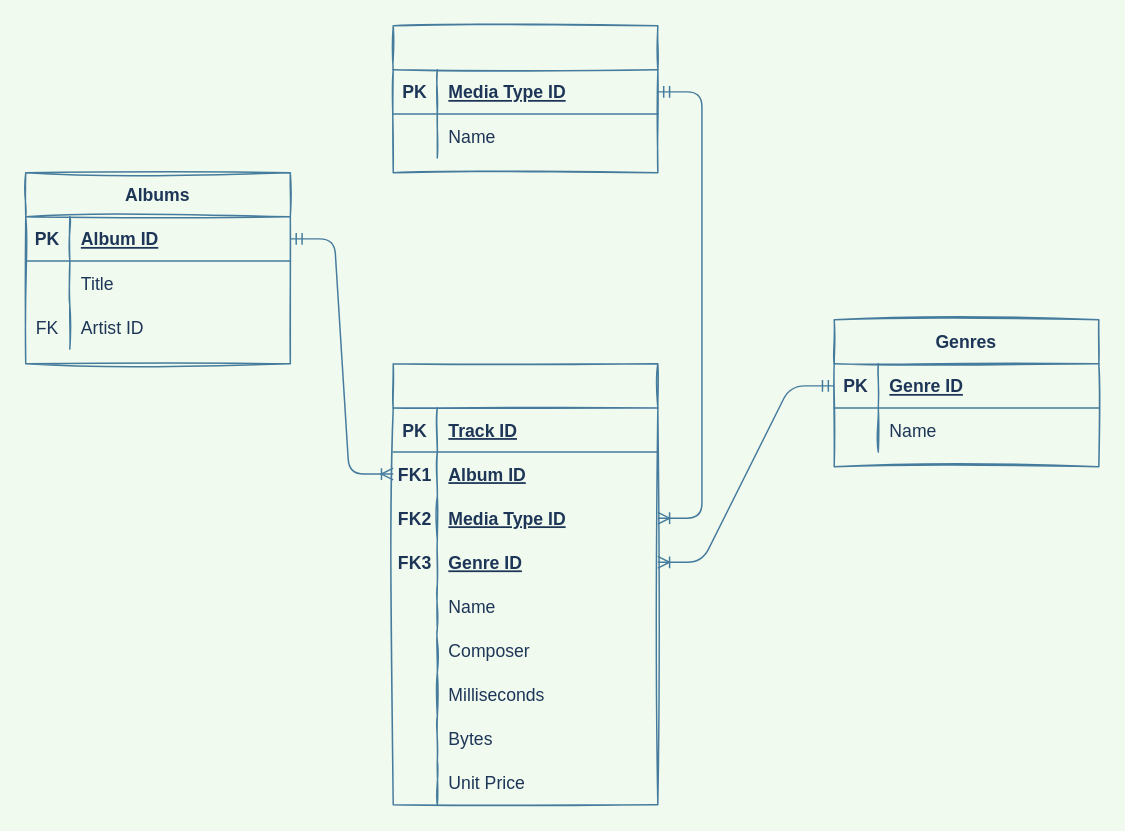
The diagram is 1125 pixels wide and 831 high, and some of its shapes have lost their labels. Here are the shapes that lost their labels. From the top down, the box of each, then its label:
(392, 24, 658, 173): Media Types
(392, 362, 658, 805): Tracks
